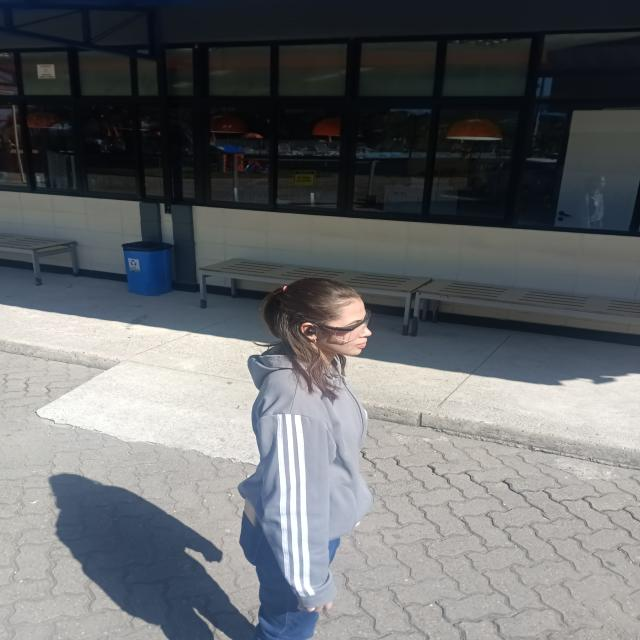oculos-epi: (318, 310, 371, 342)
